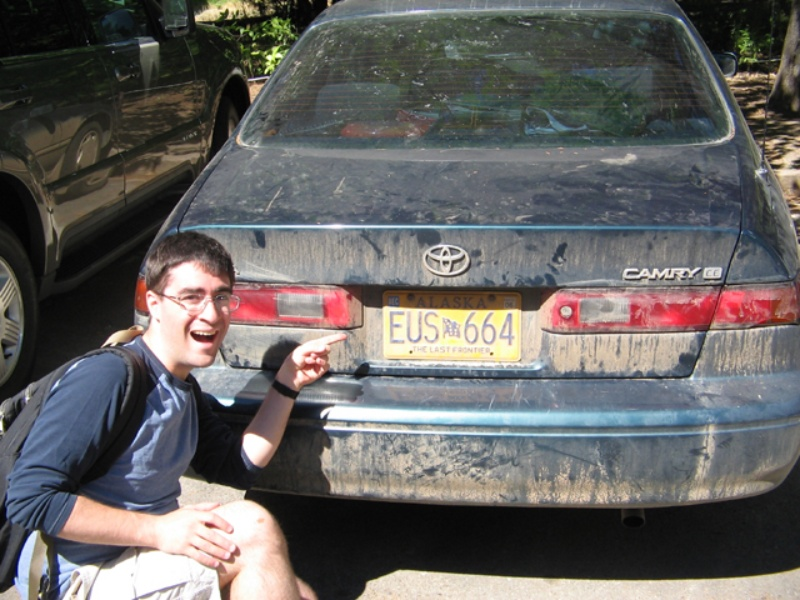licence plate: (378, 289, 522, 363)
